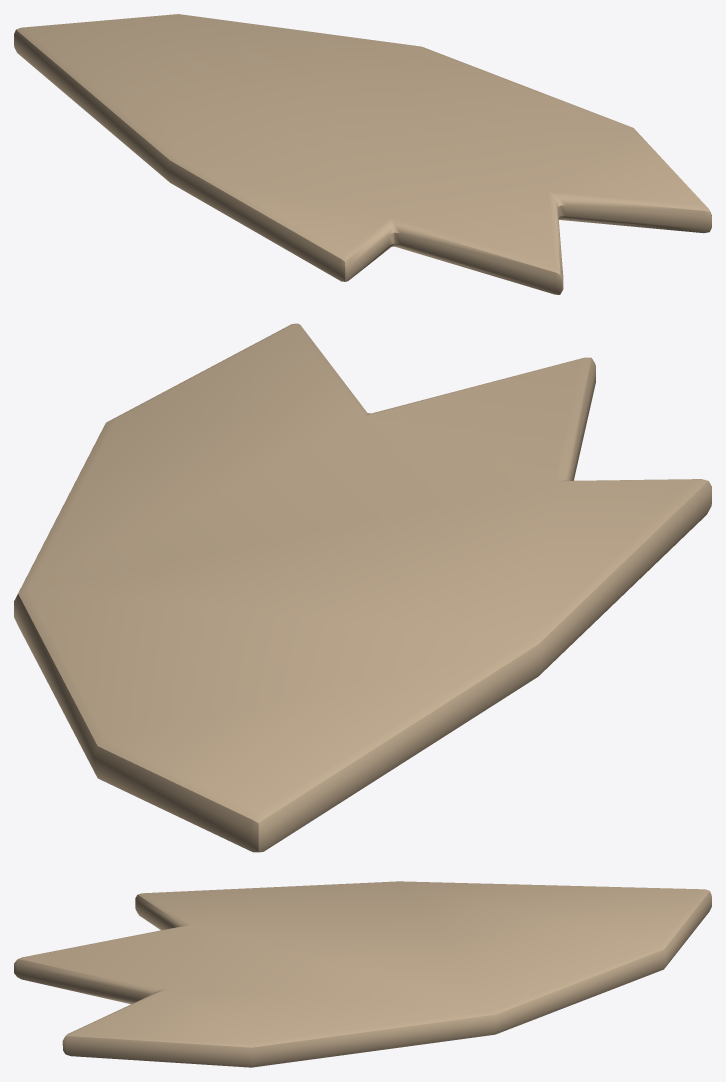
The model's file is fin_r.glb.
3 views of the same model, one above another, from view 1: azimuth 30°, elevation 25°; view 2: azimuth 150°, elevation 25°; view 3: azimuth 270°, elevation 25° (orthographic). The views are drawn at different scales.
Visible parts, largest first — view 1: FinR; view 2: FinR; view 3: FinR.
Part boxes in pixels (x1,y1,x2,y2): FinR: [14, 14, 711, 294]; FinR: [14, 323, 711, 852]; FinR: [14, 881, 711, 1067].
Bounding box in the file's own units: 0.82 × 0.055 × 1.44.
